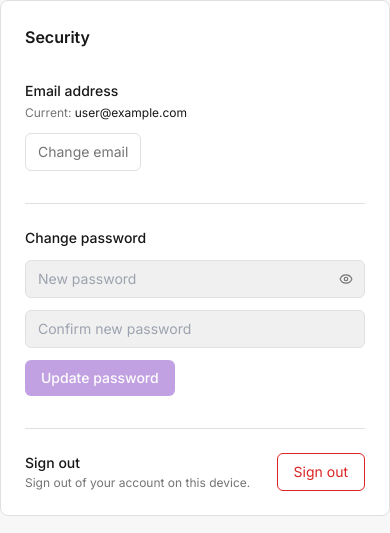
it: SecuritySection — Password change › shows success message after password update
Type "newpassword123" into the password field with placeholder "New password" at [195, 279], box [25,260,365,298]
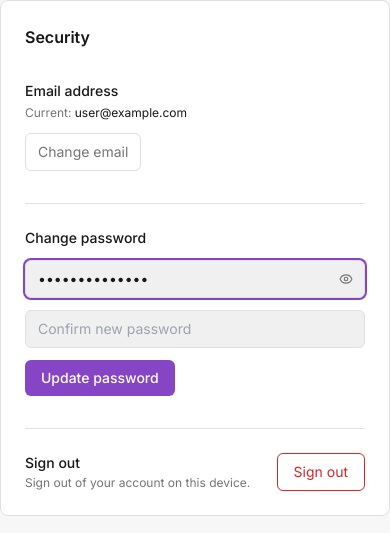
Type "newpassword123" into the password field with placeholder "Confirm new password" at [195, 329], box [25,310,365,348]
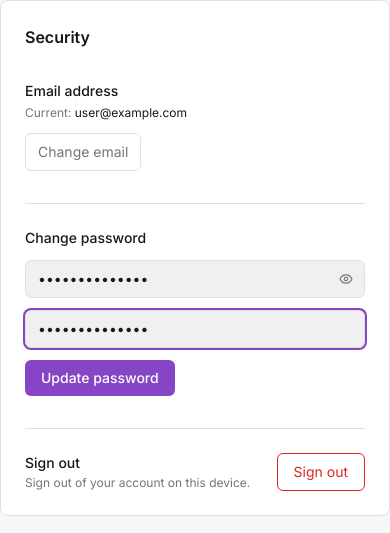
Click the button "Update password" at [100, 378], box [25,360,175,396]
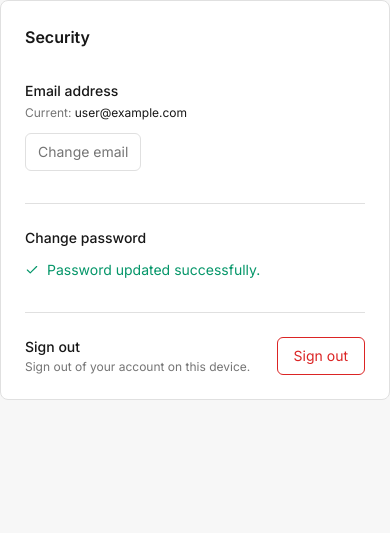
Expected: the text "Password updated successfully." is shown, [25,261,260,278]
